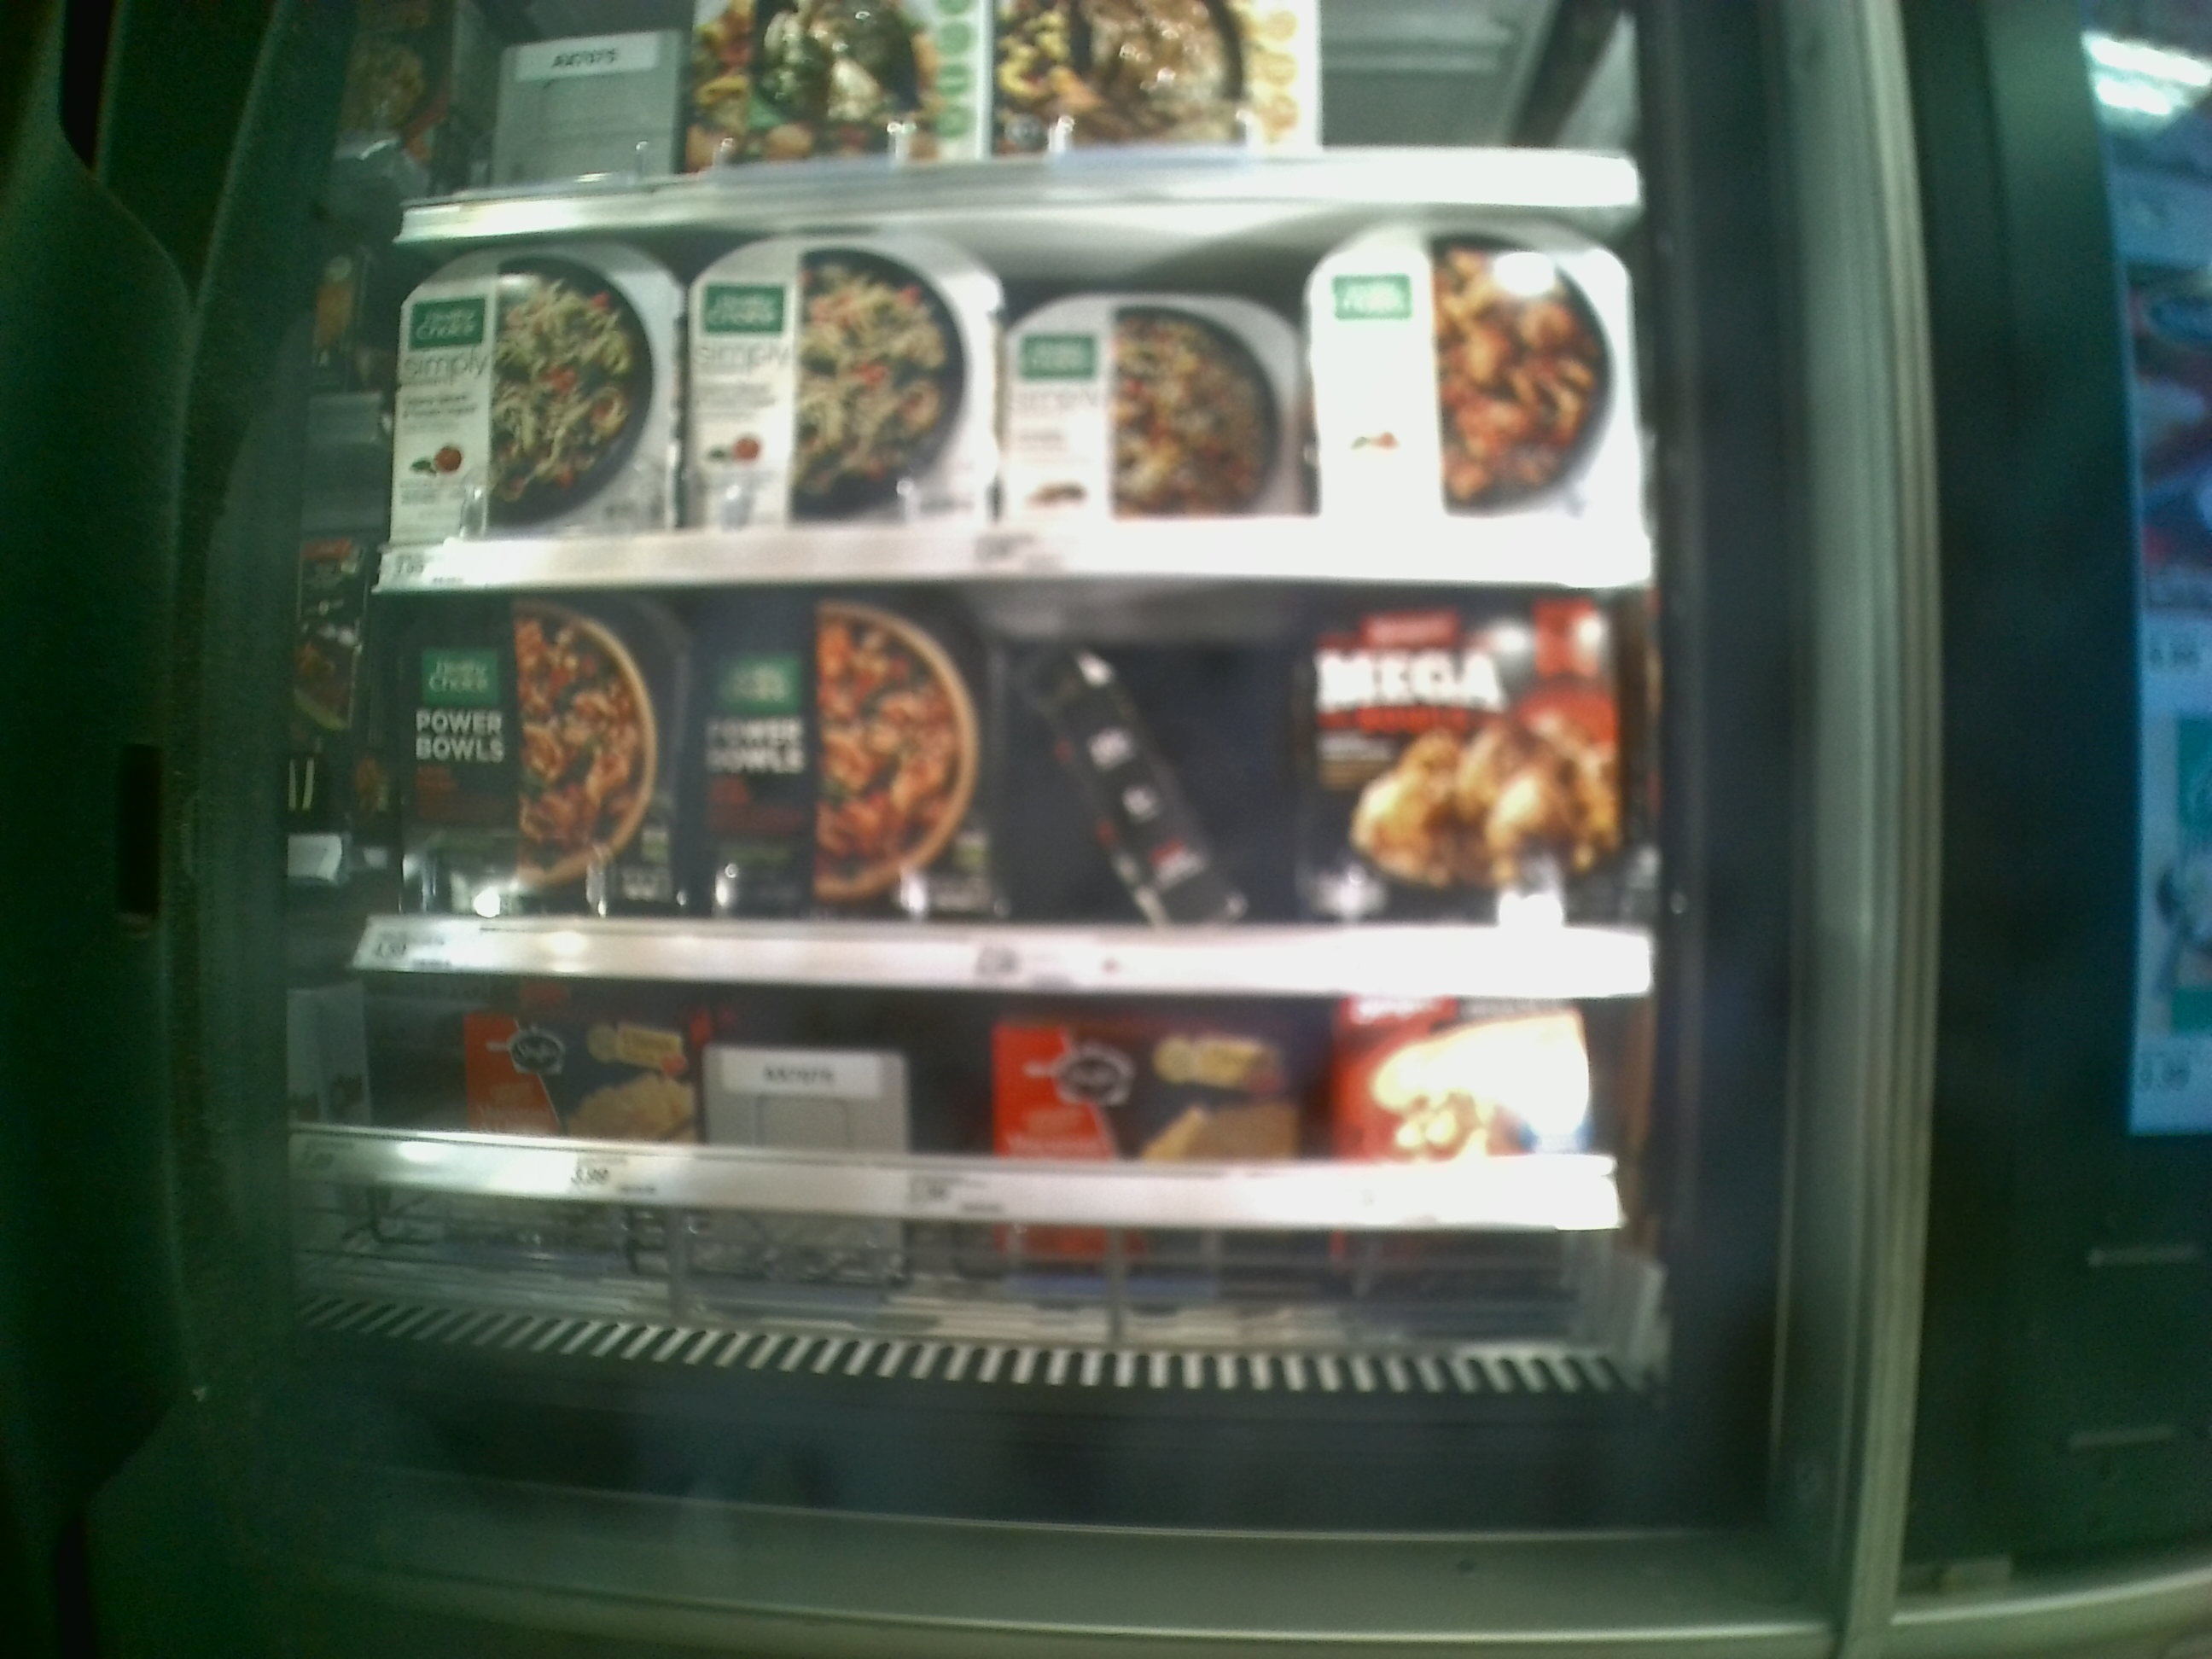shelf: (368, 587, 1649, 1006), (341, 971, 1644, 1347), (373, 209, 1660, 587)
